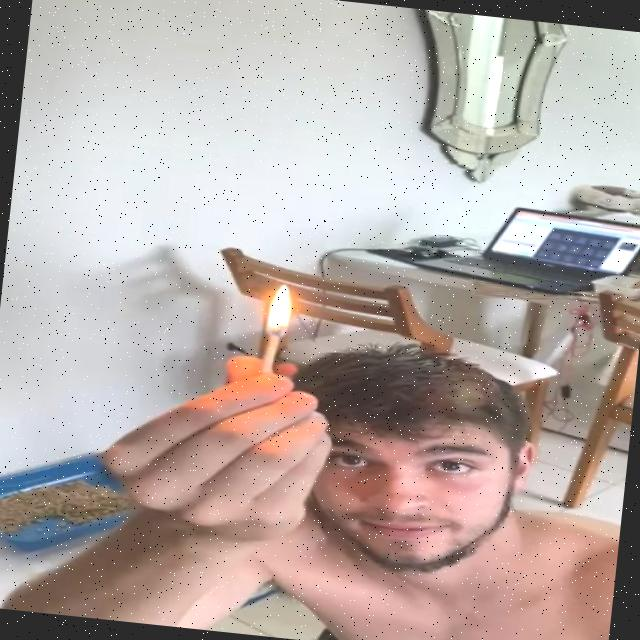fire: (263, 281, 295, 339)
